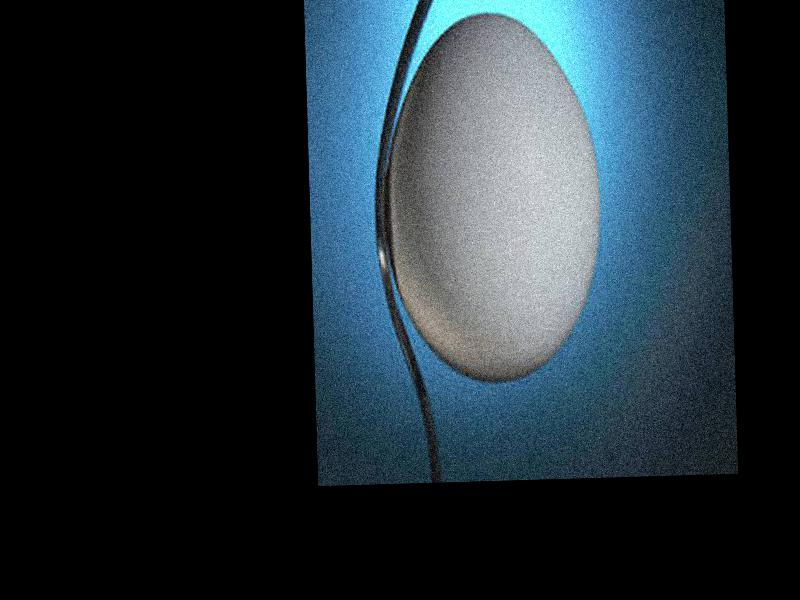Eggs: (382, 10, 602, 384)
